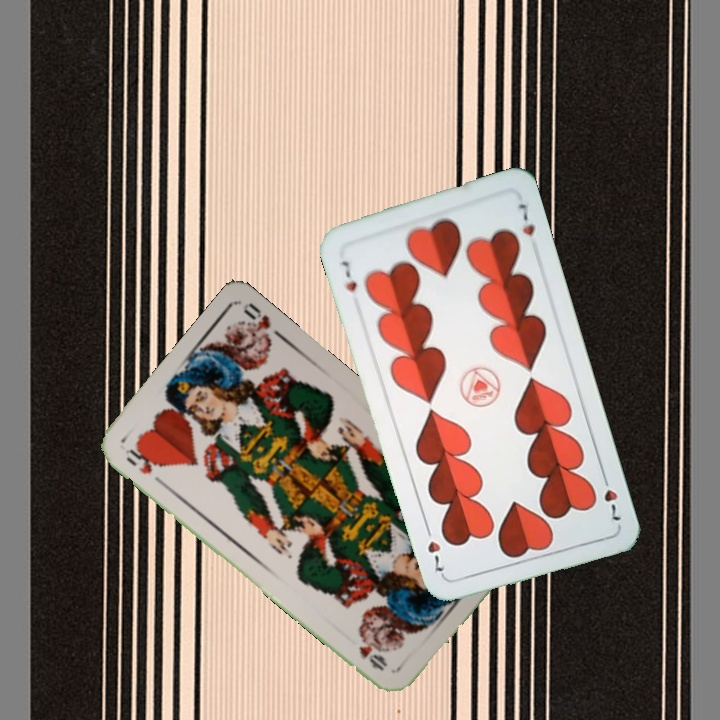H7: (598, 469, 624, 526), (337, 256, 360, 294)
HO: (121, 441, 168, 489)
